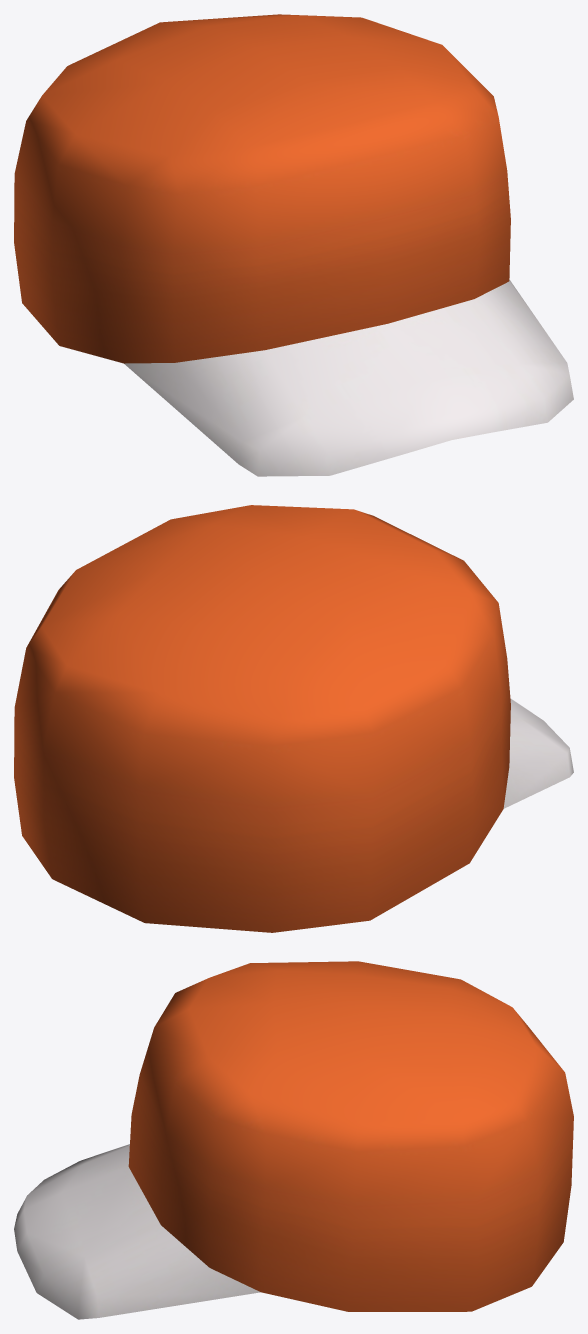
File: hat_default_female.fbx
3 views of the same model, one above another, from view 1: azimuth 30°, elevation 25°; view 2: azimuth 150°, elevation 25°; view 3: azimuth 270°, elevation 25° (orthographic). The views are drawn at different scales.
Visible parts, largest first — view 1: hat_default_female; view 2: hat_default_female; view 3: hat_default_female.
Part boxes in pixels (left/top/right/bottom): hat_default_female: left=14, top=14, right=573, bottom=476; hat_default_female: left=14, top=505, right=573, bottom=932; hat_default_female: left=14, top=961, right=573, bottom=1319.
Size of the model in its own units: 54.46 by 34.14 by 70.14.
